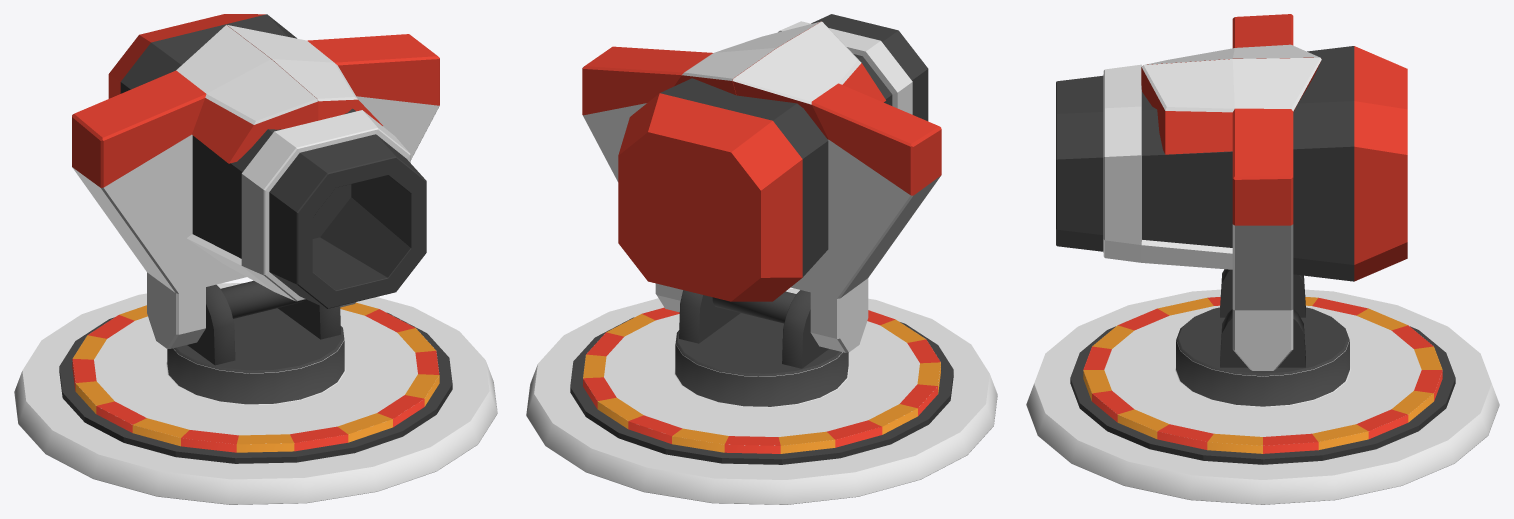
The model's file is Cannon.fbx.
The picture shows the model from 3 angles, left to right: view 1: azimuth 30°, elevation 25°; view 2: azimuth 150°, elevation 25°; view 3: azimuth 270°, elevation 25°; orthographic projection. The views are drawn at different scales.
Parts seen in each view (by area): view 1: CannonMain, CannonBase; view 2: CannonMain, CannonBase; view 3: CannonMain, CannonBase.
Part boxes in pixels (left/top/right/bottom): CannonMain: left=72, top=14, right=439, bottom=452; CannonBase: left=14, top=283, right=497, bottom=504; CannonMain: left=582, top=14, right=941, bottom=453; CannonBase: left=526, top=288, right=997, bottom=504; CannonMain: left=1056, top=14, right=1442, bottom=453; CannonBase: left=1026, top=289, right=1499, bottom=504.
Bounding box in the file's own units: 200 × 162 × 200.
